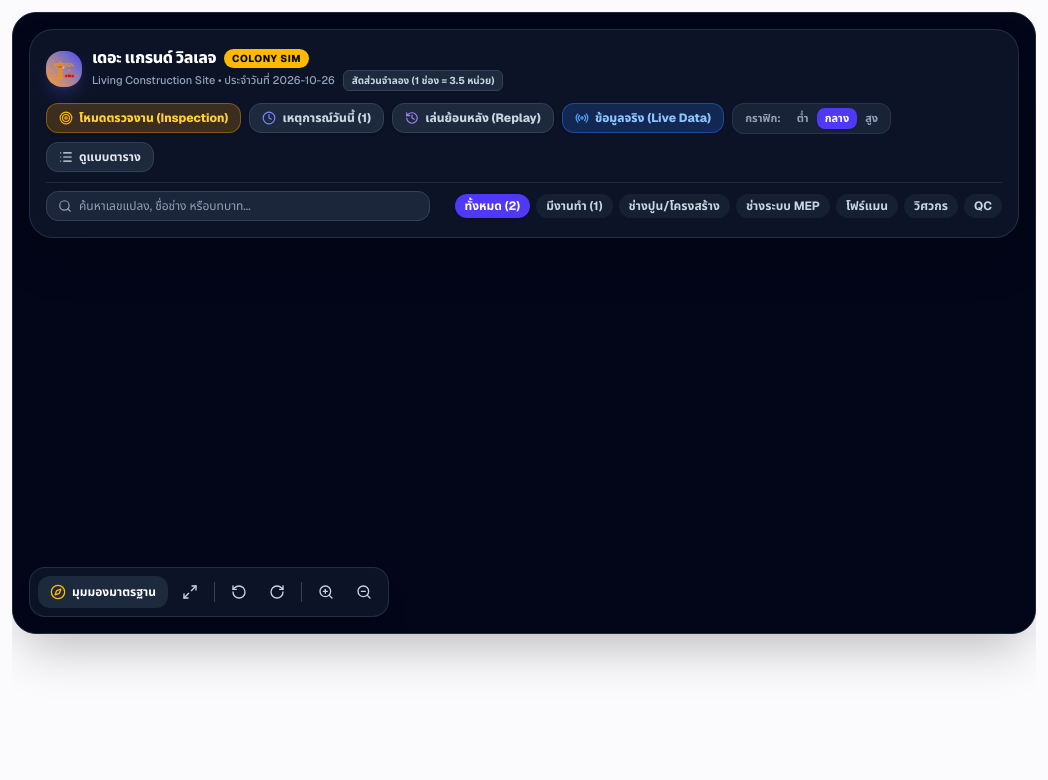
LivingSiteSimulation Component UI › allows searching plots and workers to inspect details and follow camera
In the field with placeholder "ค้นหาเลขแปลง, ชื่อช่าง หรือบทบาท...": {"x": 238, "y": 206} [46,190,430,220], type "A-01"
(page scrolled)
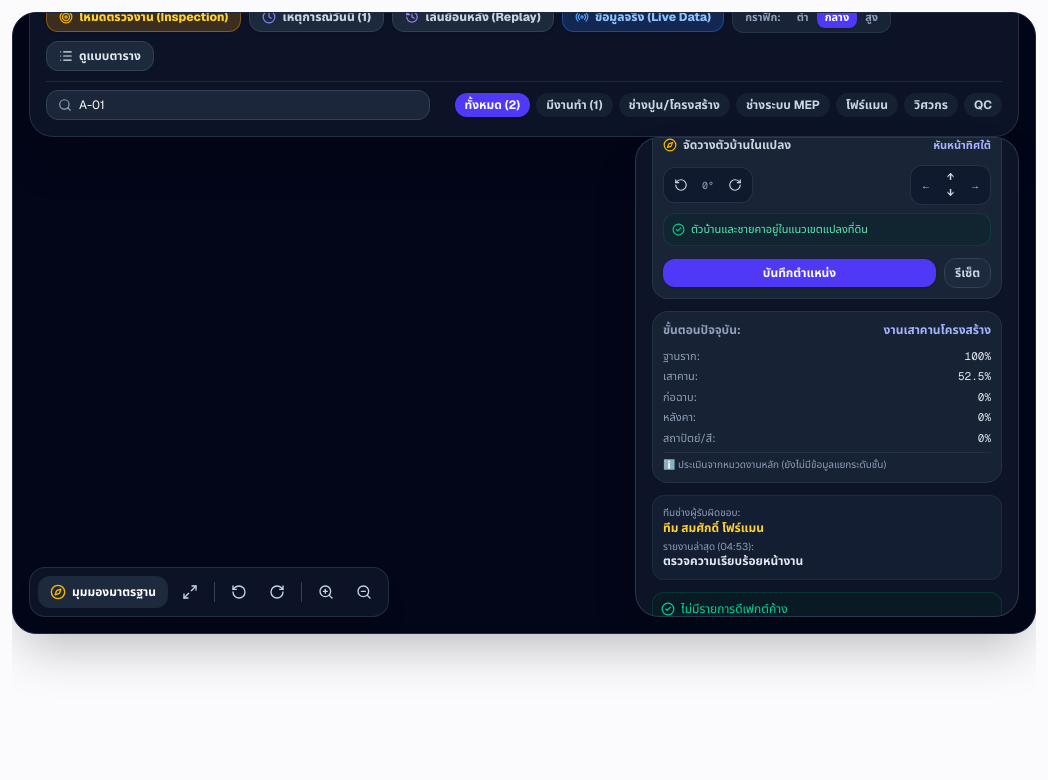
Check: the text "ขั้นตอนปัจจุบัน:" is shown, box [663,322,741,338]
Check: the text "ฐานราก:" is shown, box [663,348,700,364]
Check: the text "เสาคาน:" is shown, box [663,368,698,385]
